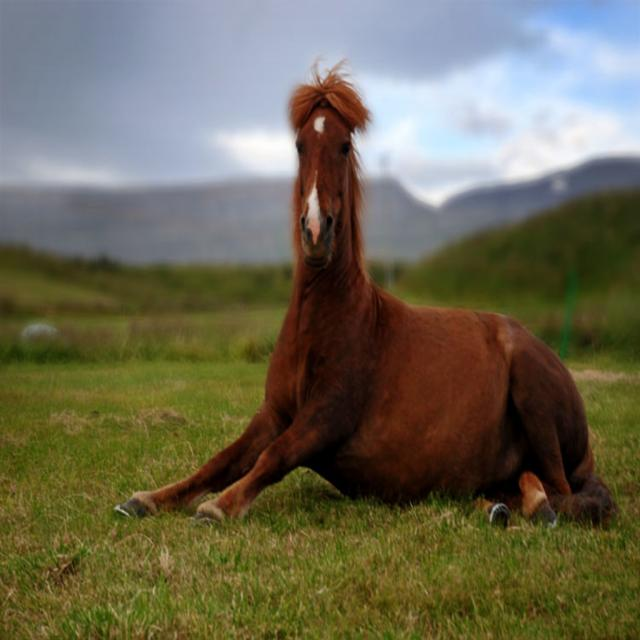Horse: (113, 49, 618, 532)
